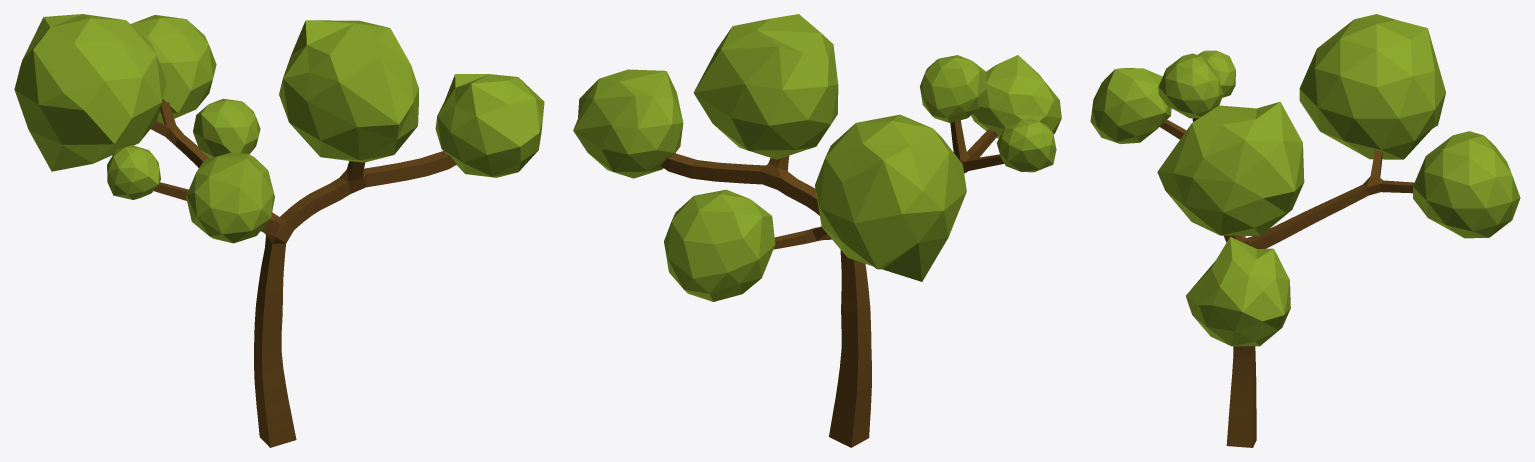
The model's file is tree.glb.
3 renders of one model, left to right at view 1: azimuth 30°, elevation 25°; view 2: azimuth 150°, elevation 25°; view 3: azimuth 270°, elevation 25°, orthographic. The views are drawn at different scales.
Parts seen in each view (by area): view 1: Icosphere.001, Icosphere.005, Plane, Icosphere.006, Icosphere.004, Icosphere, Icosphere.002, Icosphere.003; view 2: Icosphere.001, Icosphere.005, Plane, Icosphere, Icosphere.006, Icosphere.004, Icosphere.002, Icosphere.003; view 3: Icosphere.001, Icosphere.005, Icosphere, Icosphere.006, Plane, Icosphere.004, Icosphere.002, Icosphere.003.
Boxes of the visible parts, x1,y1,x2,y2 form: Icosphere.001: [14, 14, 166, 171]; Icosphere.005: [279, 20, 418, 162]; Plane: [151, 101, 456, 447]; Icosphere.006: [435, 74, 544, 177]; Icosphere.004: [186, 152, 274, 243]; Icosphere: [131, 15, 216, 123]; Icosphere.002: [193, 98, 260, 157]; Icosphere.003: [107, 145, 160, 199]; Icosphere.001: [815, 114, 966, 281]; Icosphere.005: [693, 14, 838, 159]; Plane: [660, 120, 1004, 447]; Icosphere: [664, 189, 775, 301]; Icosphere.006: [573, 69, 683, 178]; Icosphere.004: [971, 55, 1061, 138]; Icosphere.002: [920, 55, 987, 122]; Icosphere.003: [997, 119, 1056, 172]; Icosphere.001: [1299, 14, 1445, 159]; Icosphere.005: [1157, 101, 1304, 235]; Icosphere: [1413, 131, 1520, 238]; Icosphere.006: [1186, 236, 1290, 346]; Plane: [1160, 118, 1414, 447]; Icosphere.004: [1090, 68, 1171, 143]; Icosphere.002: [1158, 53, 1223, 118]; Icosphere.003: [1198, 50, 1235, 97].
Size of the model in its own units: 9.13 by 7.67 by 8.1.
